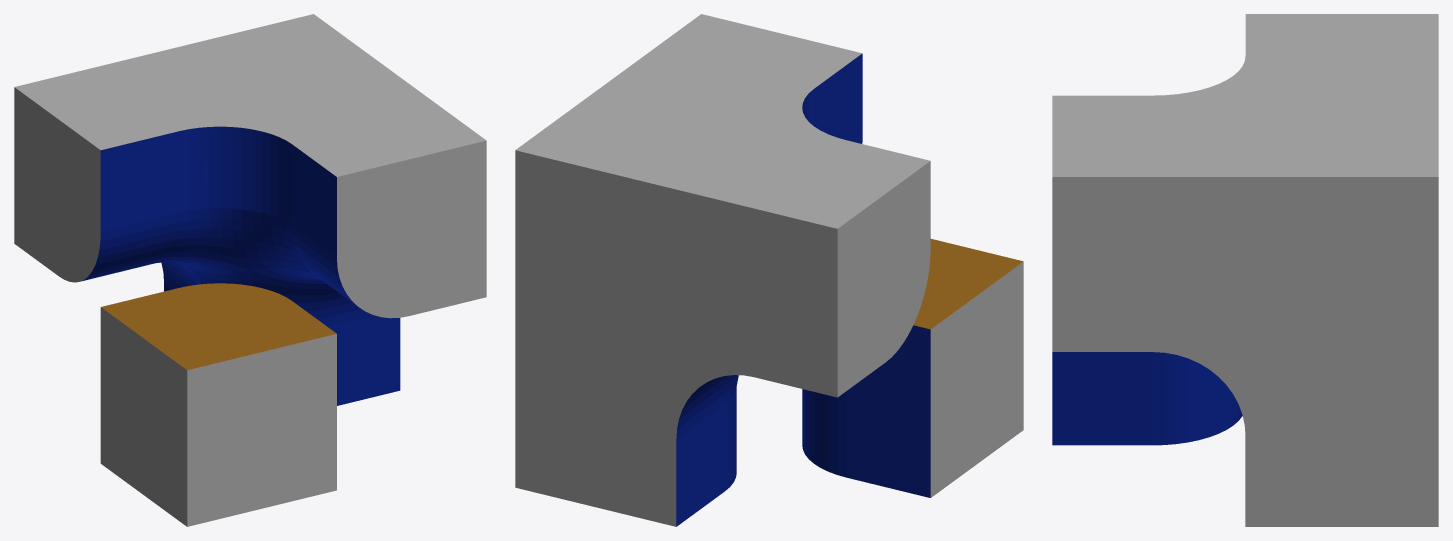
The model's file is case_122.fbx.
The picture shows the model from 3 angles, left to right: view 1: azimuth 30°, elevation 25°; view 2: azimuth 150°, elevation 25°; view 3: azimuth 270°, elevation 25°; orthographic projection. The views are drawn at different scales.
Parts seen in each view (by area): view 1: case_122; view 2: case_122; view 3: case_122.
Boxes of the visible parts, x1,y1,x2,y2 form: case_122: (14, 14, 486, 526); case_122: (515, 14, 1023, 526); case_122: (1052, 14, 1438, 526).
Bounding box in the file's own units: 100 × 100 × 100.
